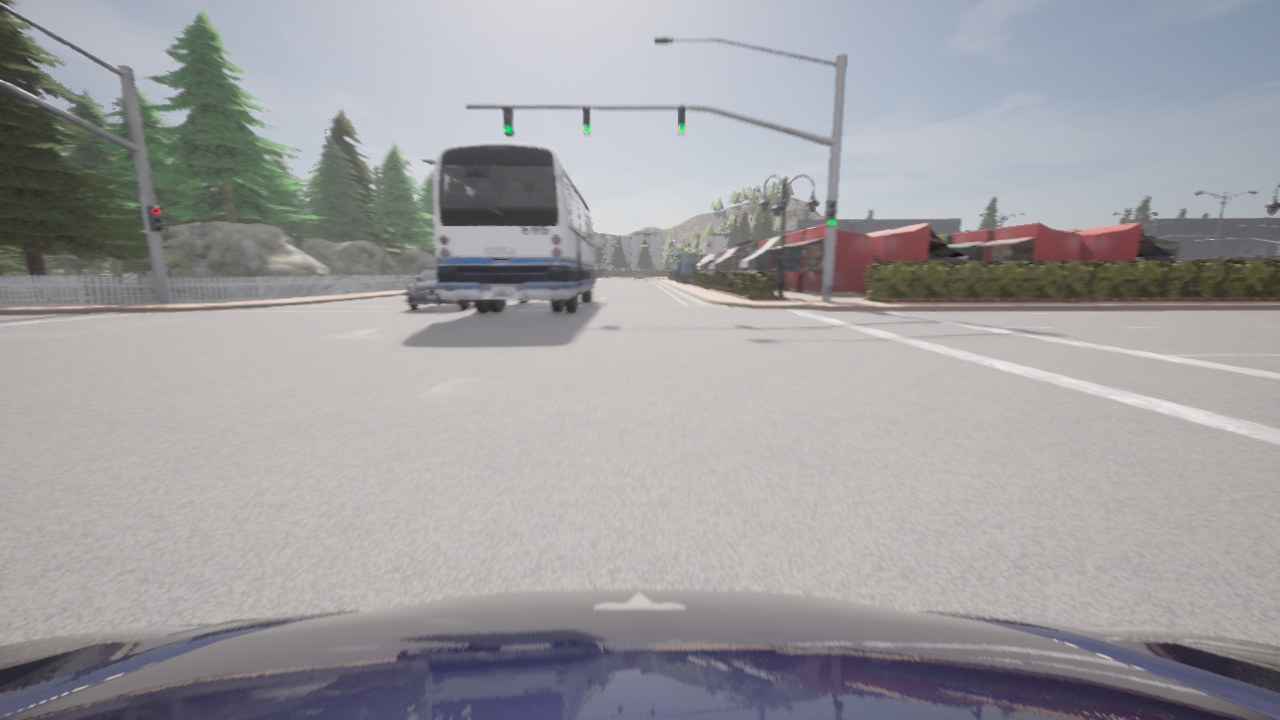cyclist: (0, 588, 1279, 719), (434, 142, 601, 313), (404, 267, 472, 310), (408, 268, 432, 288), (633, 271, 645, 280)
